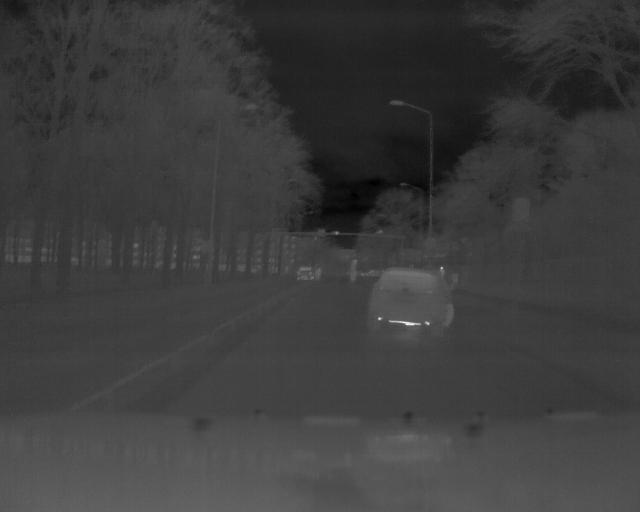car: (367, 267, 460, 343), (292, 264, 317, 286)
